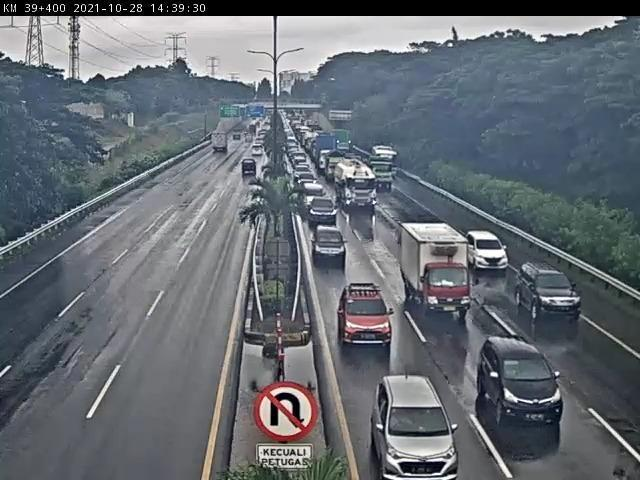car: (377, 373, 465, 480), (479, 328, 564, 423), (335, 274, 395, 341), (516, 263, 584, 320), (466, 229, 510, 265), (312, 227, 347, 264), (308, 199, 338, 228)
truck: (403, 219, 472, 308), (337, 157, 379, 213), (377, 162, 398, 193)
